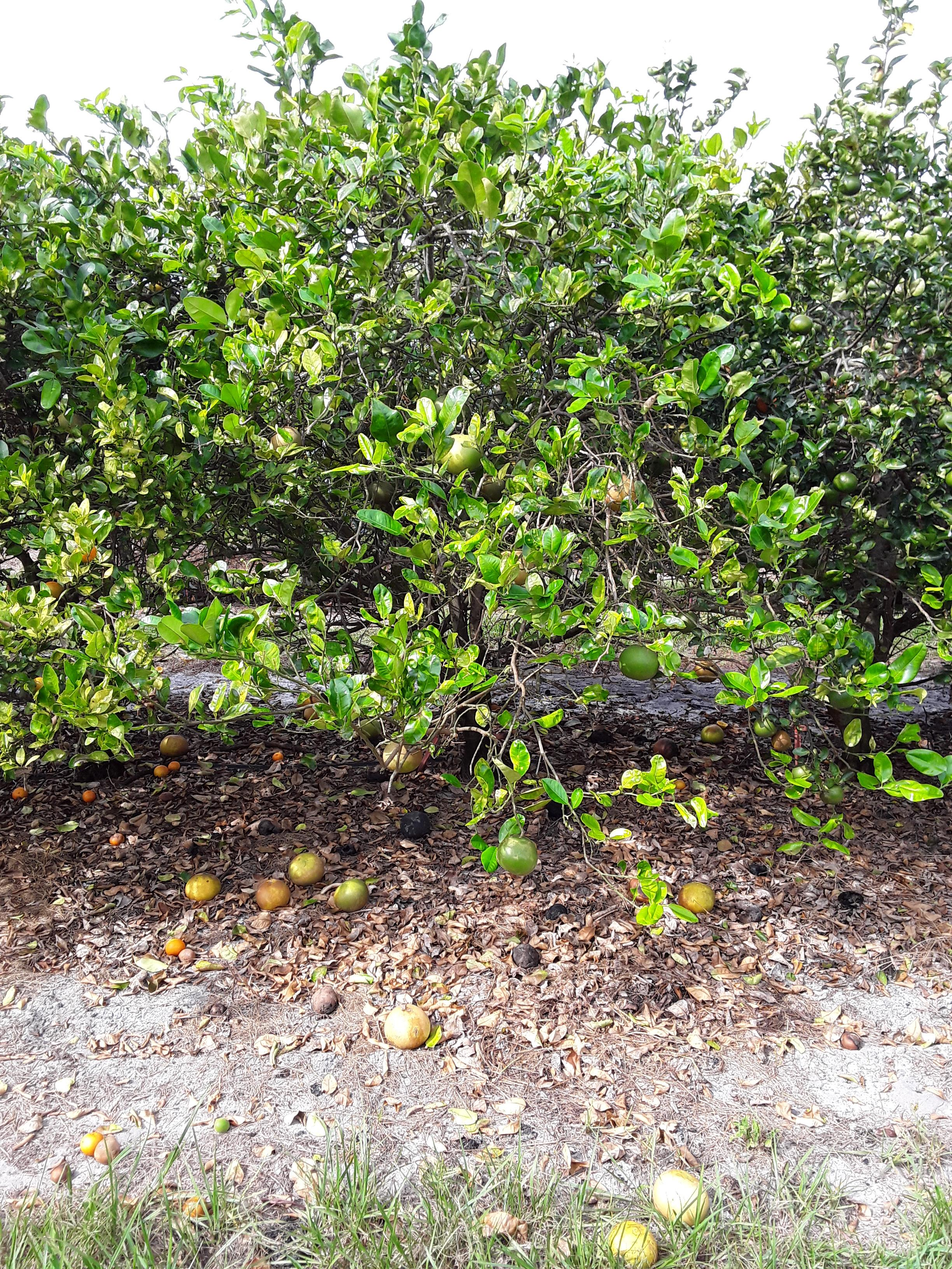fruit_on_ground: (597, 465, 644, 517), (435, 430, 485, 473), (616, 642, 663, 683), (495, 832, 538, 876), (494, 550, 542, 589), (379, 739, 427, 778), (427, 392, 480, 424), (262, 423, 307, 458), (831, 461, 862, 502), (46, 411, 98, 435), (65, 535, 104, 567), (781, 314, 826, 338), (826, 682, 863, 710), (39, 575, 68, 608), (816, 781, 850, 807), (691, 655, 720, 685), (361, 479, 397, 503), (797, 402, 828, 428), (480, 474, 509, 501), (671, 608, 701, 632), (659, 444, 686, 470), (837, 172, 864, 198), (642, 453, 667, 480), (755, 389, 779, 417), (767, 729, 796, 752), (763, 456, 788, 482), (26, 671, 49, 698), (753, 715, 779, 737), (142, 276, 172, 294), (937, 410, 952, 432), (944, 468, 952, 491)
fruit_on_tree: (647, 1166, 718, 1227), (604, 1216, 661, 1269), (383, 1001, 435, 1054), (625, 872, 677, 907), (330, 877, 374, 915), (288, 851, 329, 889), (677, 878, 716, 915), (253, 875, 294, 910), (307, 982, 345, 1019), (182, 871, 223, 901), (86, 1137, 129, 1165), (397, 809, 433, 841), (176, 1195, 212, 1225), (75, 1131, 116, 1157), (156, 734, 193, 758), (511, 942, 540, 969), (46, 1161, 74, 1186), (697, 723, 729, 744), (589, 727, 618, 750), (541, 900, 571, 922), (837, 886, 864, 910), (651, 738, 683, 758), (841, 1028, 866, 1053), (356, 718, 382, 739), (744, 860, 772, 879), (159, 939, 191, 955), (257, 817, 279, 838), (212, 1113, 232, 1134), (301, 706, 326, 722), (175, 948, 198, 965), (109, 831, 127, 850), (149, 761, 169, 778), (80, 787, 98, 805), (312, 692, 331, 707), (11, 785, 28, 801), (159, 789, 174, 804), (270, 751, 287, 764), (296, 693, 311, 705), (168, 760, 181, 772), (673, 780, 688, 790)
